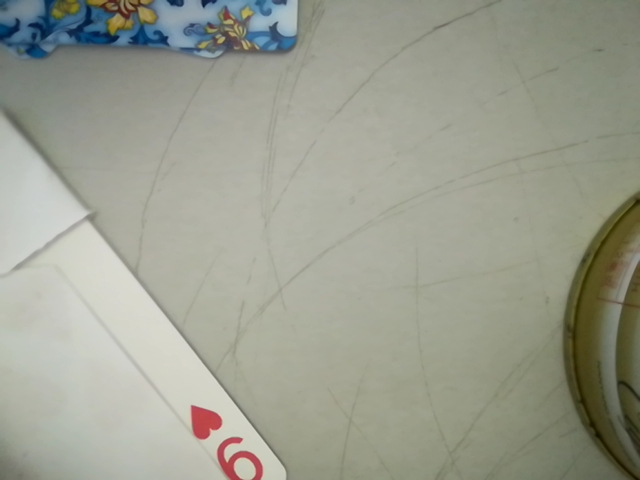hx 9: (191, 399, 272, 479)
